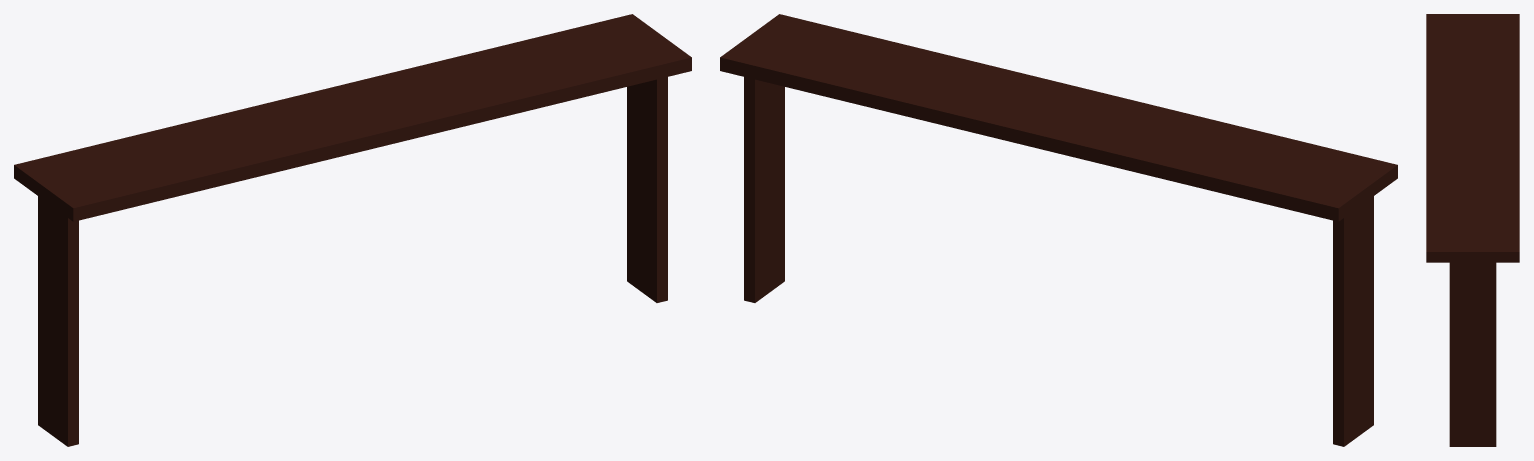
Rendered from BalcaoTeto.fbx.
3 views of the same model, side by side, from view 1: azimuth 30°, elevation 25°; view 2: azimuth 150°, elevation 25°; view 3: azimuth 270°, elevation 25° (orthographic). The views are drawn at different scales.
Visible parts, largest first — view 1: BalcaoTeto; view 2: BalcaoTeto; view 3: BalcaoTeto.
Boxes of the visible parts, <box> form: BalcaoTeto: <box>14,14,691,446</box>; BalcaoTeto: <box>720,14,1397,446</box>; BalcaoTeto: <box>1426,14,1519,446</box>.
Bounding box in the file's own units: 525 × 204 × 87.24.
